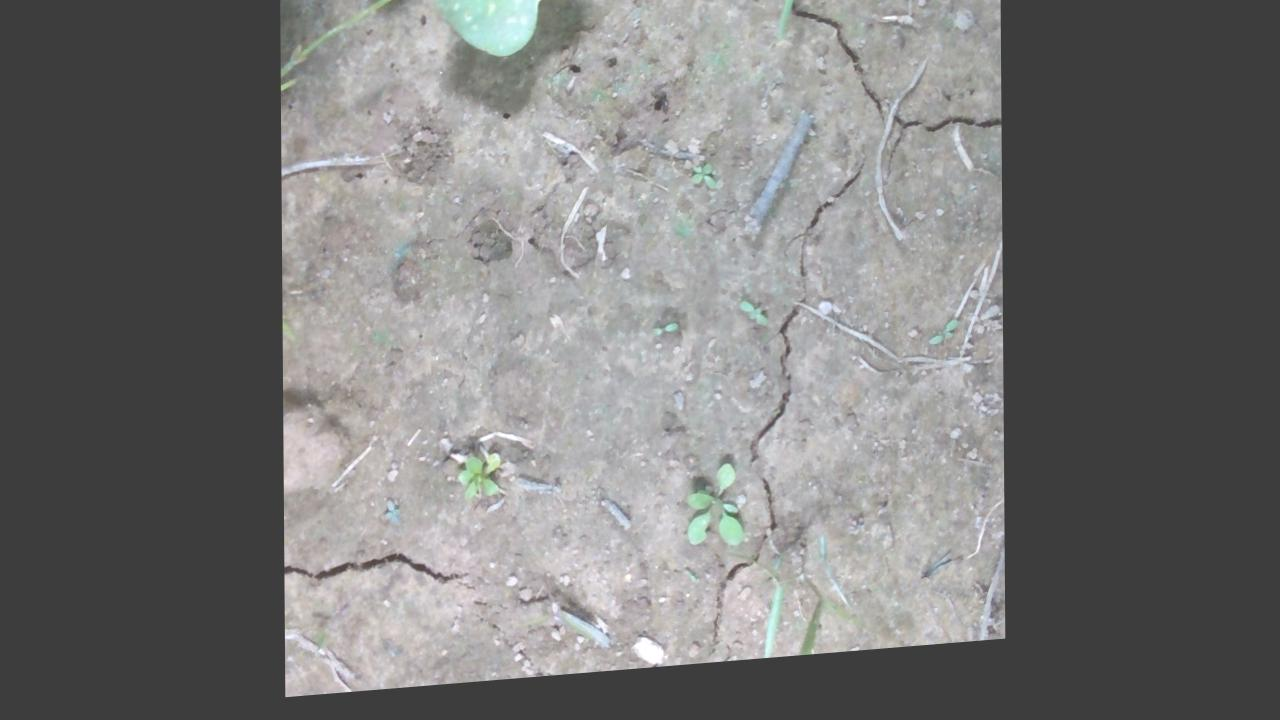weed: (686, 166, 717, 207)
